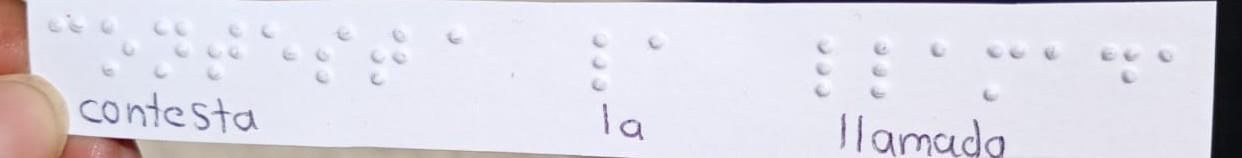a: (419, 20, 476, 58), (628, 29, 691, 56), (1033, 29, 1069, 76), (916, 38, 961, 71), (1145, 35, 1186, 70)
c: (41, 10, 90, 51)
d: (1091, 34, 1149, 98)
e: (251, 16, 299, 88)
l: (804, 30, 844, 110), (860, 36, 899, 106), (581, 22, 615, 100)
m: (976, 35, 1029, 110)
n: (146, 18, 194, 81)
o: (94, 10, 139, 82)
s: (306, 18, 358, 94)
t: (198, 16, 251, 84), (365, 21, 411, 93)
